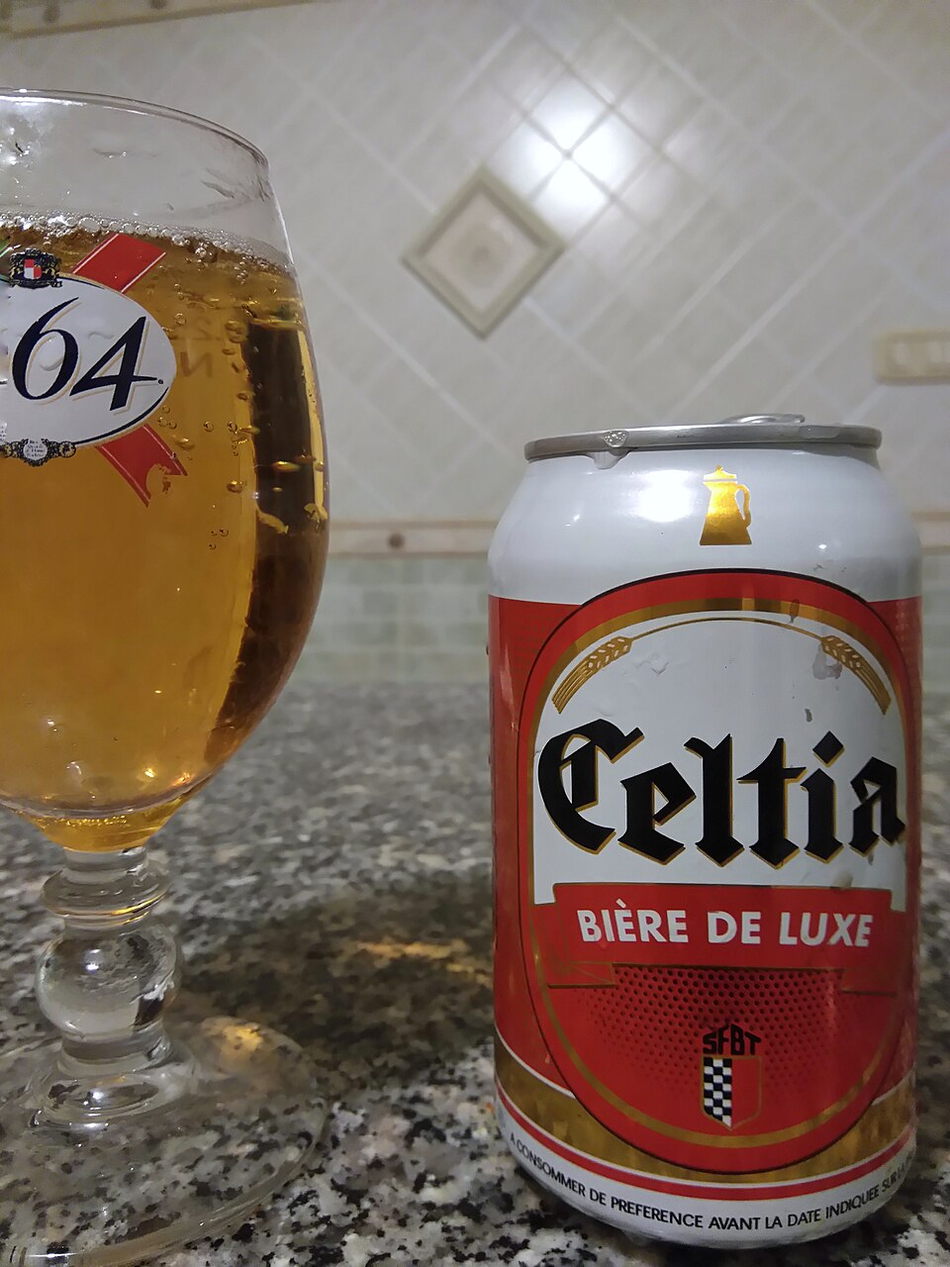beer-can: (486, 447, 925, 1262)
